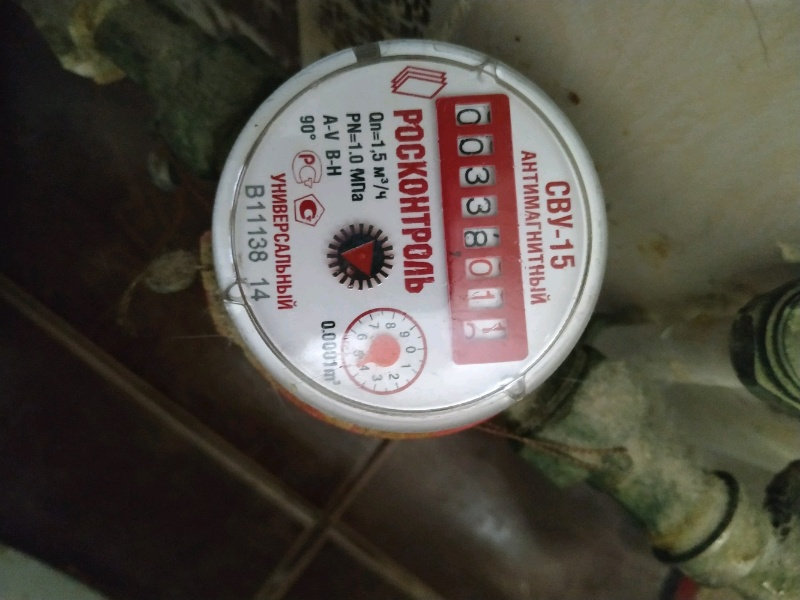dial: (446, 92, 512, 362)
